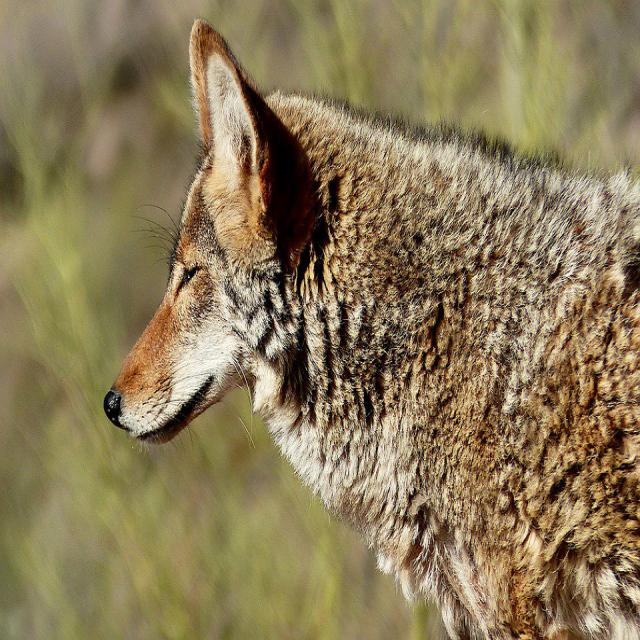Coyote: (102, 15, 640, 640)
